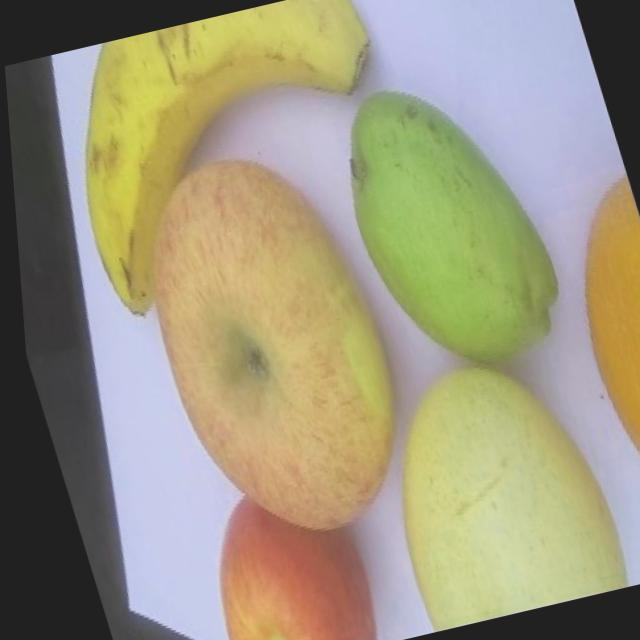Apple: (109, 137, 428, 556), (176, 474, 377, 640)
Banana: (35, 0, 436, 324)
Orange: (541, 176, 640, 548)
